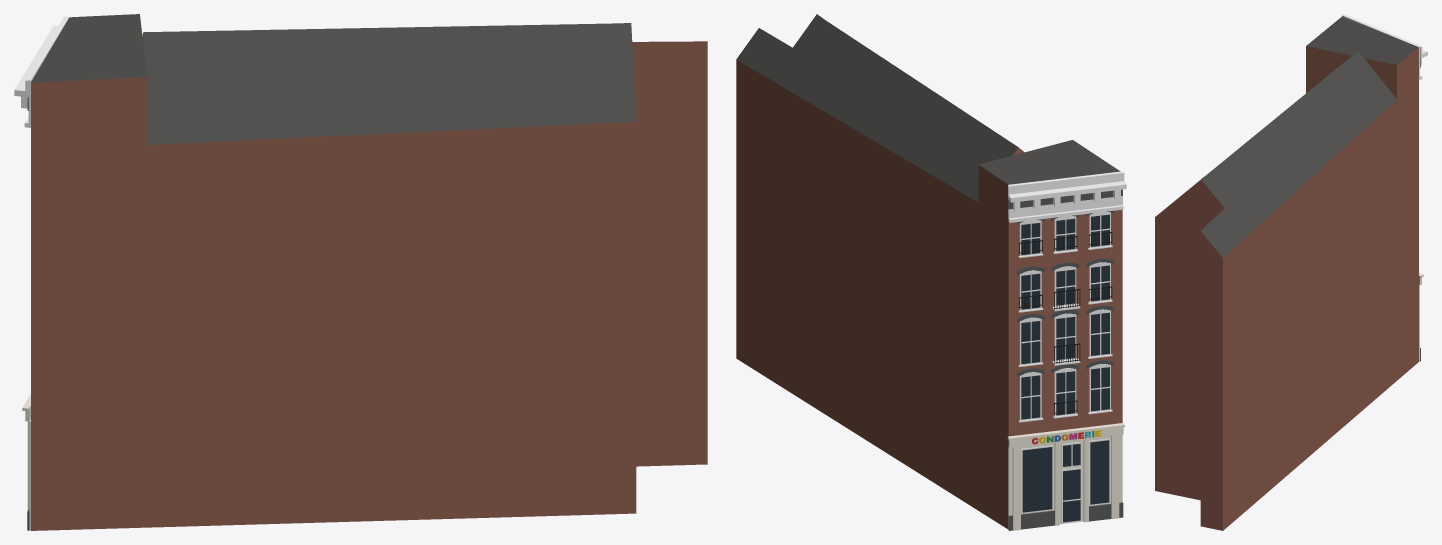
File: condomerie.glb
3 renders of one model, left to right at view 1: azimuth 30°, elevation 25°; view 2: azimuth 150°, elevation 25°; view 3: azimuth 270°, elevation 25°, orthographic. The views are drawn at different scales.
Parts seen in each view (by area): view 1: condomerie; view 2: condomerie; view 3: condomerie.
Part boxes in pixels (bbox=[...]): condomerie: bbox=[14, 14, 707, 530]; condomerie: bbox=[736, 14, 1126, 530]; condomerie: bbox=[1155, 14, 1427, 530].
Bounding box in the file's own units: 26.5 × 19.41 × 14.92.
